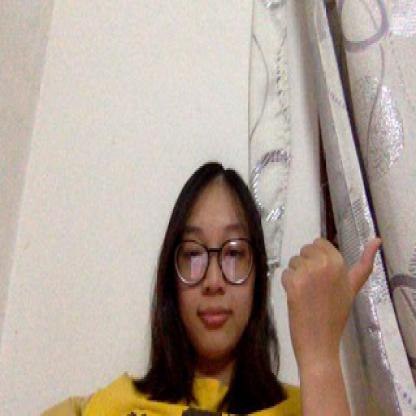left: (281, 236, 385, 344)
